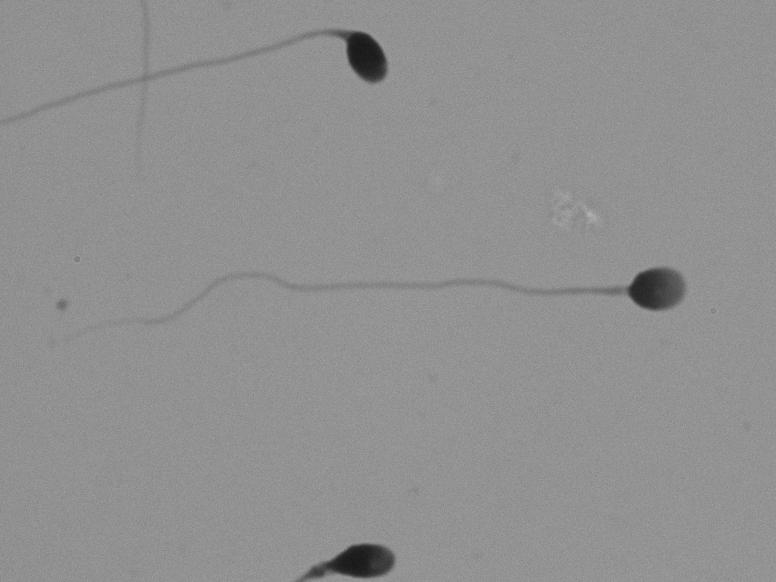Abnormal: (27, 17, 423, 140), (291, 531, 426, 577)
Normal: (42, 217, 724, 366)
